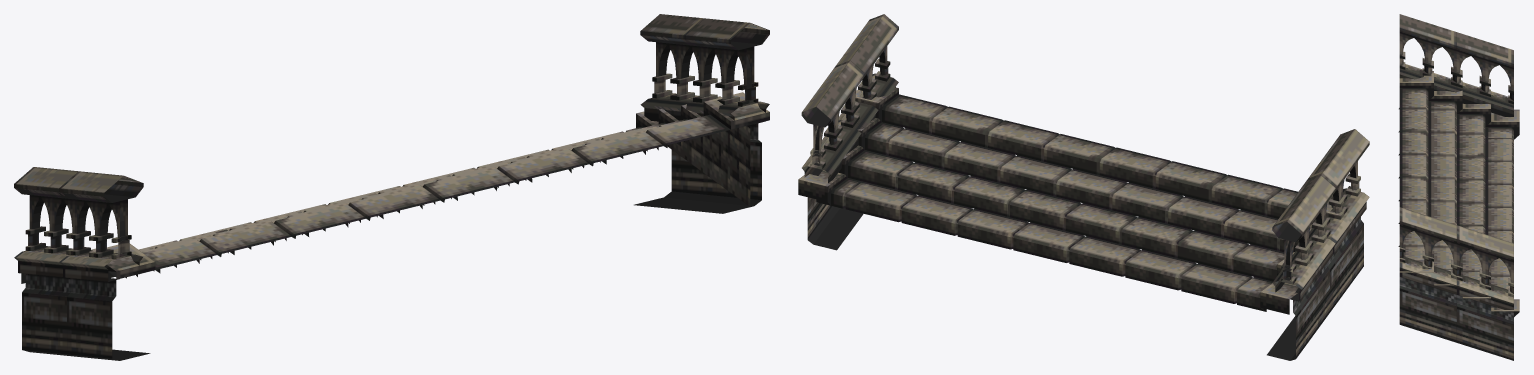
Rendered from EnvMdrMD_Castle_A_Fence_Unique_A.FBX.
The picture shows the model from 3 angles, left to right: view 1: azimuth 30°, elevation 25°; view 2: azimuth 150°, elevation 25°; view 3: azimuth 270°, elevation 25°; orthographic projection. The views are drawn at different scales.
Parts seen in each view (by area): view 1: EnvMdrMD_Castle_A_Fence_Unique_A; view 2: EnvMdrMD_Castle_A_Fence_Unique_A; view 3: EnvMdrMD_Castle_A_Fence_Unique_A.
Boxes of the visible parts, bbox=[...] form: EnvMdrMD_Castle_A_Fence_Unique_A: bbox=[14, 14, 769, 360]; EnvMdrMD_Castle_A_Fence_Unique_A: bbox=[798, 14, 1369, 360]; EnvMdrMD_Castle_A_Fence_Unique_A: bbox=[1398, 14, 1519, 360].
Bounding box in the file's own units: 850 × 295 × 212.
Materials: 1 (1 with a texture image).
